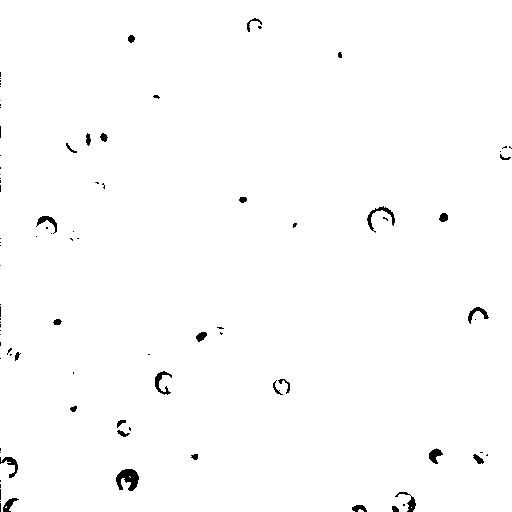micro-algae: (108, 50, 229, 162), (290, 99, 396, 204), (367, 51, 460, 142), (233, 97, 310, 174), (293, 7, 368, 76), (372, 128, 429, 185), (37, 283, 85, 333), (92, 383, 141, 428), (141, 458, 188, 503), (2, 95, 42, 139), (92, 0, 156, 27), (0, 3, 23, 74), (379, 463, 418, 502), (182, 325, 221, 358), (465, 434, 495, 467), (366, 205, 396, 235), (83, 172, 112, 201), (47, 311, 75, 341), (31, 213, 59, 242), (428, 206, 458, 233), (256, 341, 283, 369), (316, 315, 347, 339), (153, 370, 179, 397), (64, 220, 90, 246), (60, 389, 84, 417), (285, 207, 309, 235), (332, 42, 360, 66), (467, 305, 492, 330), (64, 130, 90, 154), (115, 468, 141, 492), (5, 343, 28, 370), (426, 446, 452, 469), (390, 491, 418, 512), (396, 267, 418, 293), (133, 335, 160, 356), (89, 44, 112, 68), (160, 486, 186, 507), (60, 359, 82, 383), (93, 124, 113, 149), (2, 497, 34, 512), (182, 445, 206, 465), (2, 456, 20, 482), (118, 28, 141, 48), (272, 377, 293, 398), (246, 17, 266, 38), (115, 417, 132, 438), (277, 87, 294, 107), (498, 145, 512, 161), (439, 65, 453, 80), (349, 503, 370, 512), (119, 1, 148, 6), (237, 195, 249, 204)
